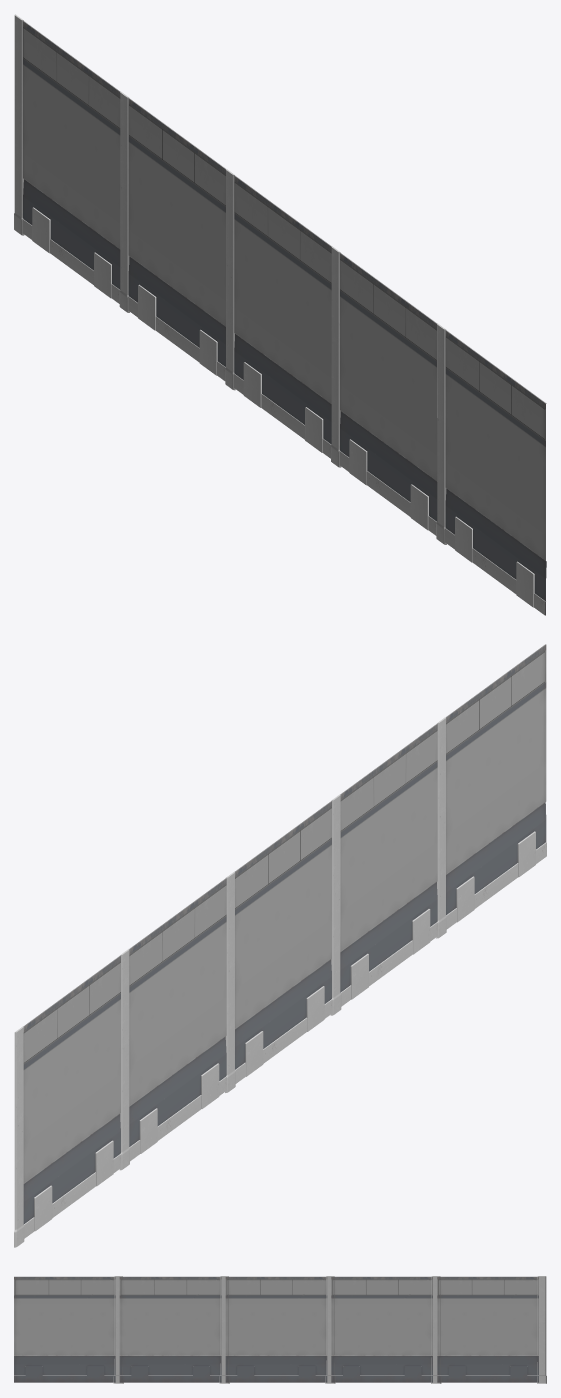
Rendered from Pfb_JALB_WallPart2_Line__18.fbx.
The picture shows the model from 3 angles, top to bottom: view 1: azimuth 30°, elevation 25°; view 2: azimuth 150°, elevation 25°; view 3: azimuth 270°, elevation 25°; orthographic projection. The views are drawn at different scales.
Visible parts, largest first — view 1: MAT_JLABWall; view 2: MAT_JLABWall; view 3: MAT_JLABWall.
Boxes of the visible parts, x1,y1,x2,y2 form: MAT_JLABWall: (14, 14, 546, 615); MAT_JLABWall: (14, 644, 546, 1247); MAT_JLABWall: (14, 1276, 546, 1383).
Size of the model in its own units: 0.0432 by 4.04 by 18.14.
Materials: 1 (1 with a texture image).
